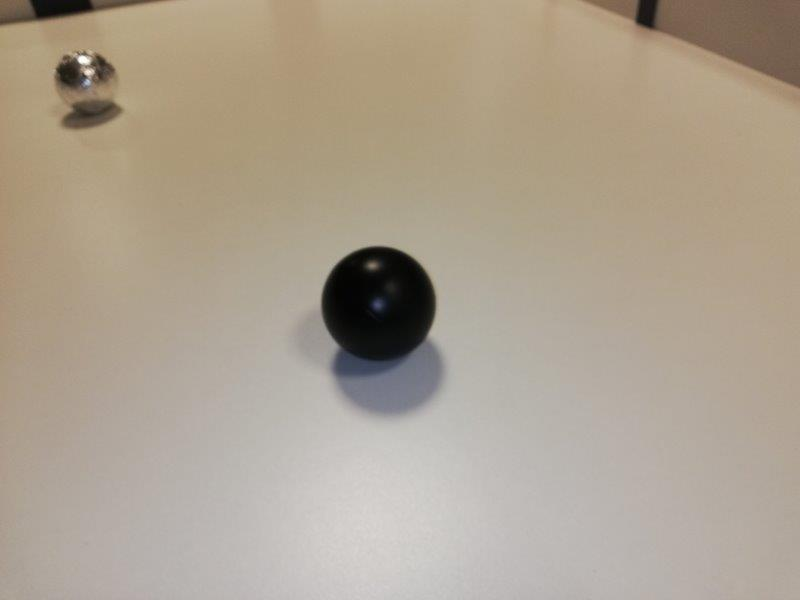bianca: (53, 50, 120, 115)
nera: (320, 245, 436, 362)
